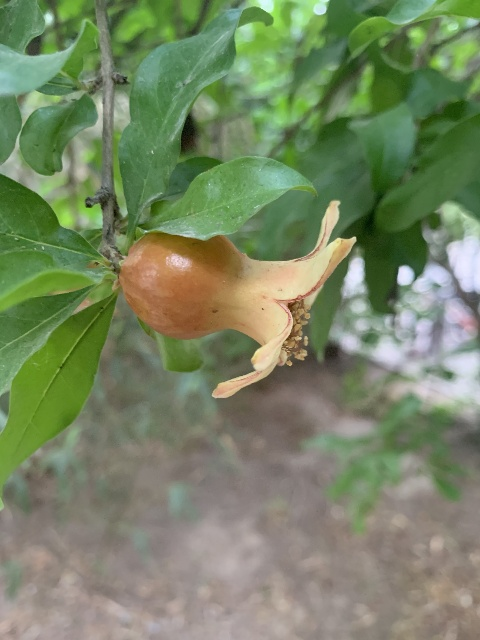early-fruit: (120, 202, 353, 399)
